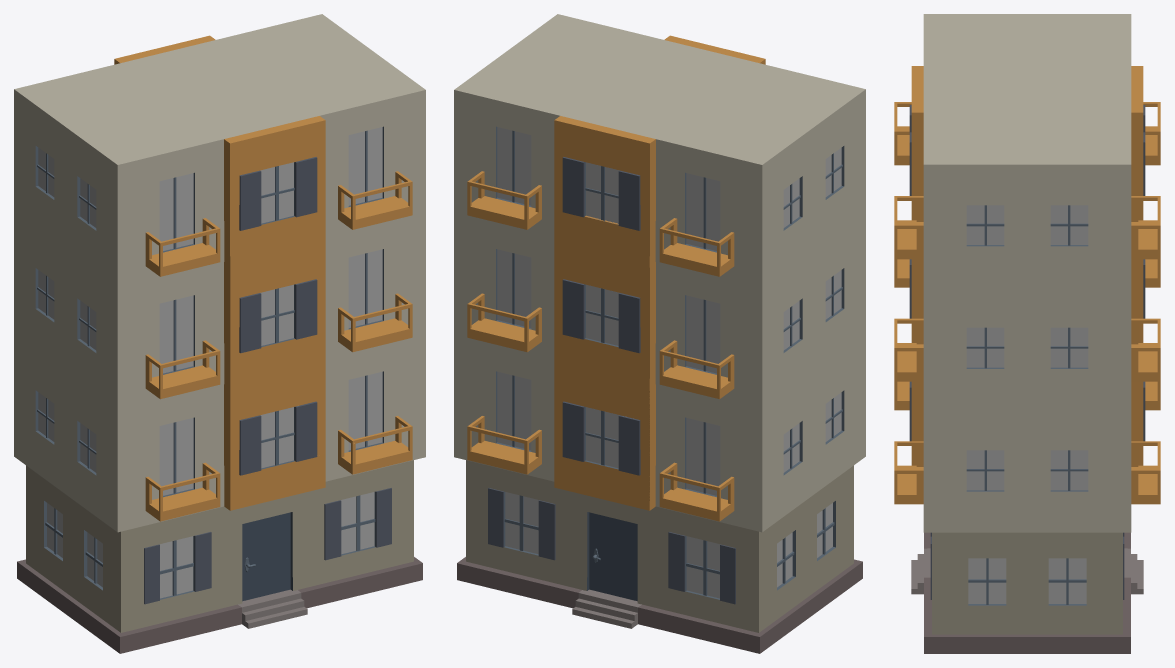
Rendered from FL-House Orange.fbx.
3 renders of one model, left to right at view 1: azimuth 30°, elevation 25°; view 2: azimuth 150°, elevation 25°; view 3: azimuth 270°, elevation 25°, orthographic.
Visible parts, largest first — view 1: immeuble; view 2: immeuble; view 3: immeuble.
Part boxes in pixels (box(x1,y1,x2,y2)): immeuble: box(14, 14, 425, 653); immeuble: box(454, 14, 865, 653); immeuble: box(894, 14, 1160, 653).
Size of the model in its own units: 4482 by 6804 by 3346.
